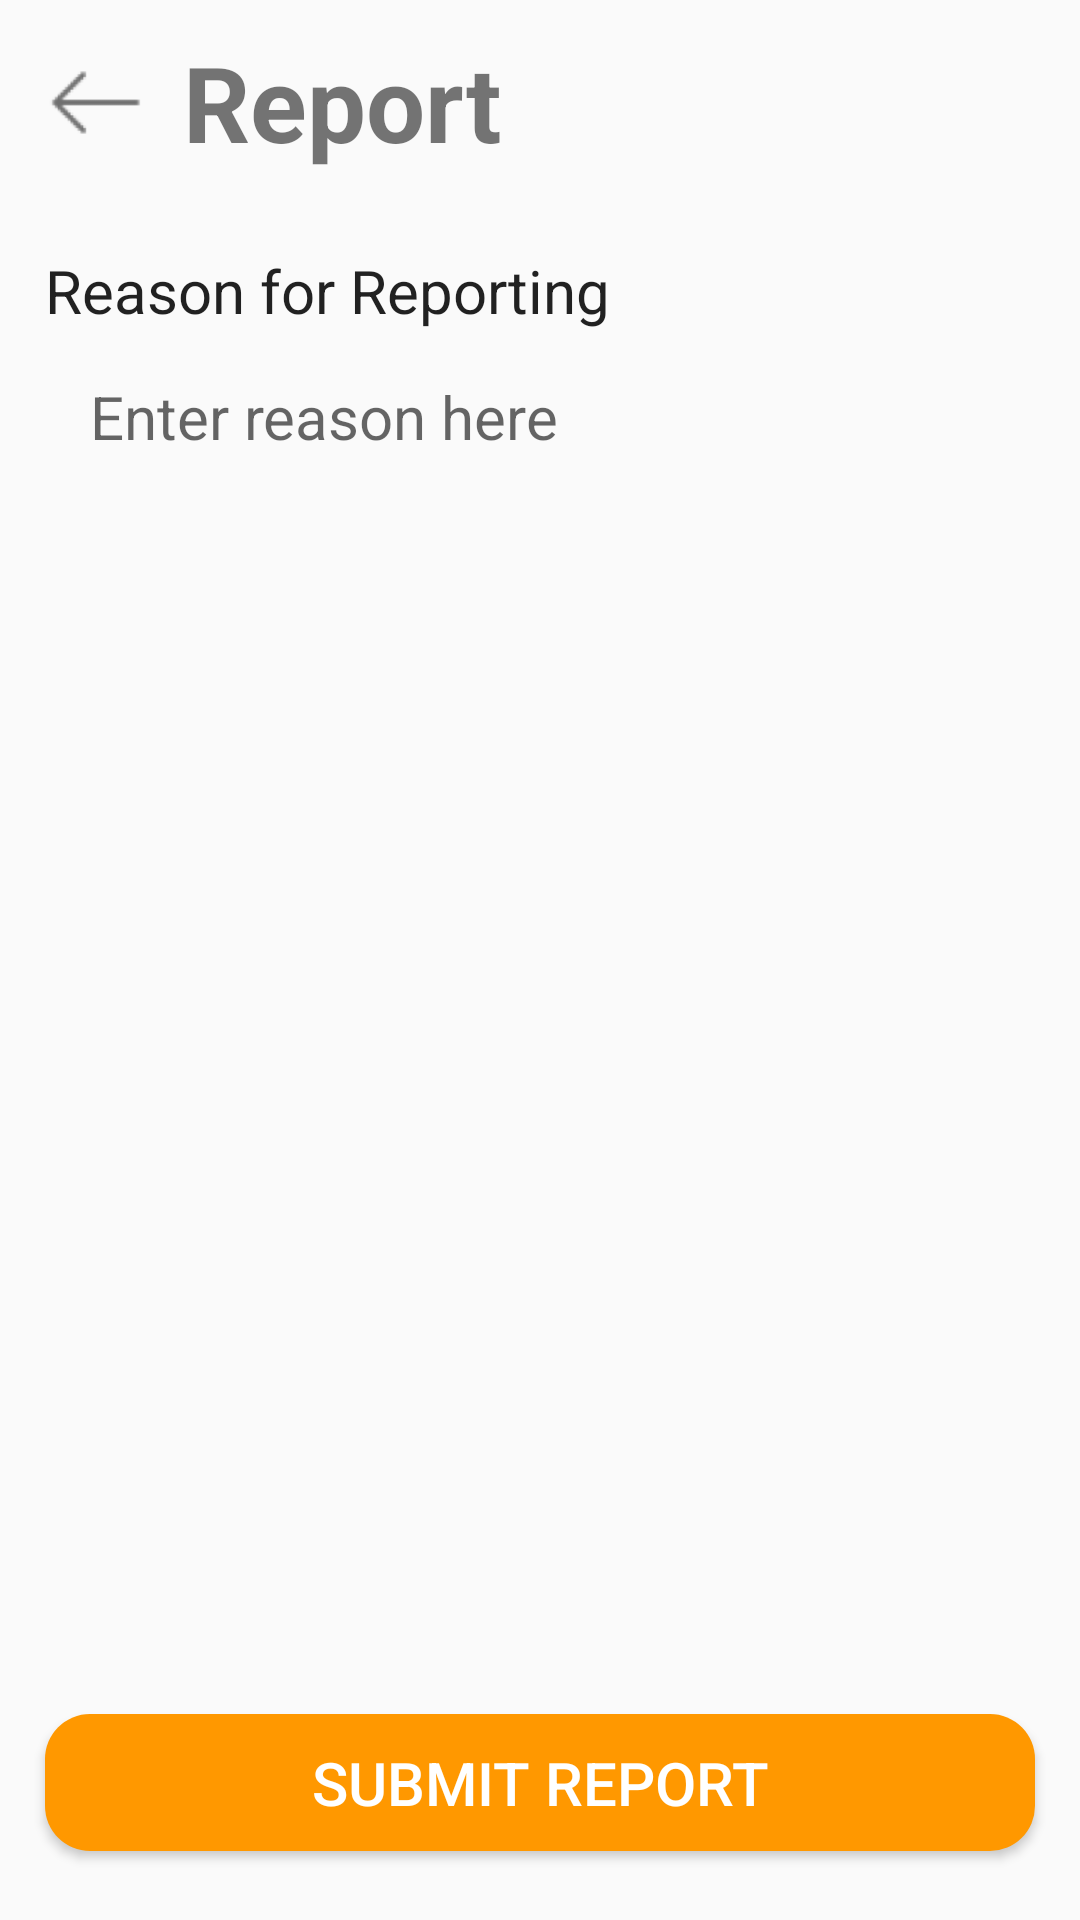

Icons on this 1080x1920 Android screen, each with its box as [left=x1, top=y1, right=x2, bottom=y2]:
back arrow: [left=52, top=71, right=140, bottom=134]
